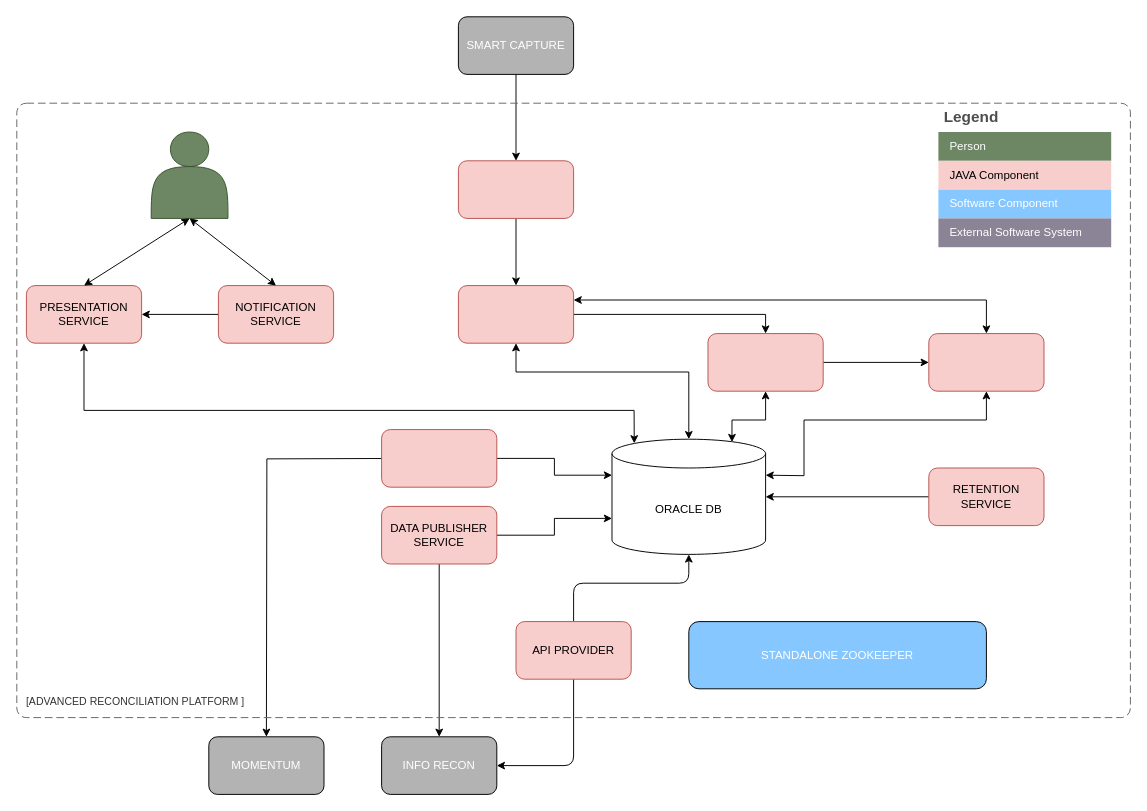
The diagram is 1147 pixels wide and 811 high, and some of its shapes have lost their labels. The shapes that lost their labels are listed below. From the top down, each one's centre as x and y in pixels, then its label:
At [189,174]: "ARP USER".
At [515,189]: "SDC GATEWAY SERVICE".
At [515,314]: "PROVIDER SERVICE".
At [765,362]: "DATA POPULATION SERVICE".
At [986,362]: "EXECUTOR SERVICE".
At [439,458]: "FILE PUBLISHER SERVICE".
